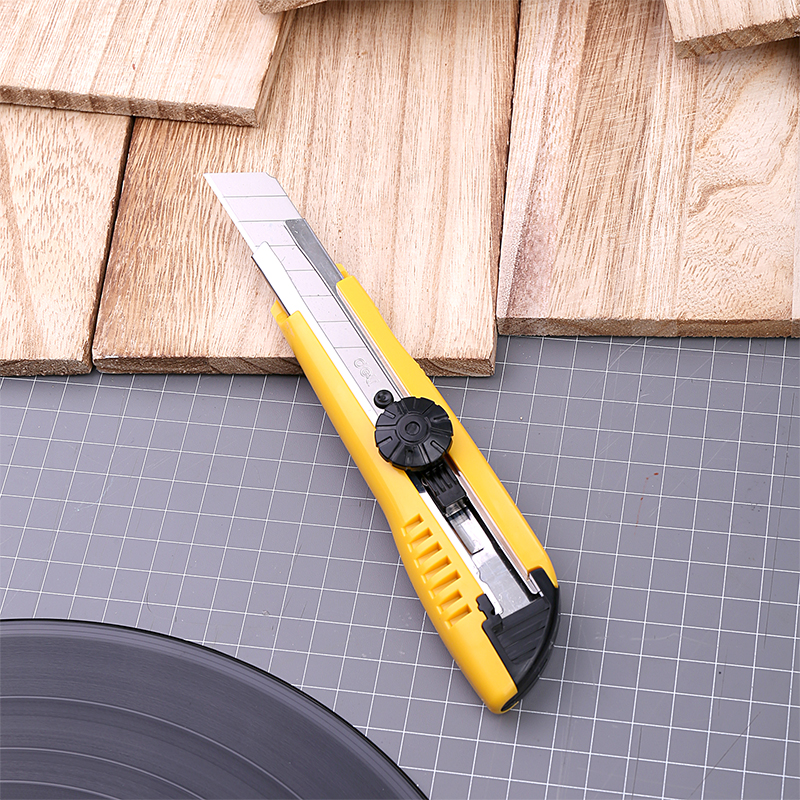cutter: (198, 170, 564, 719)
